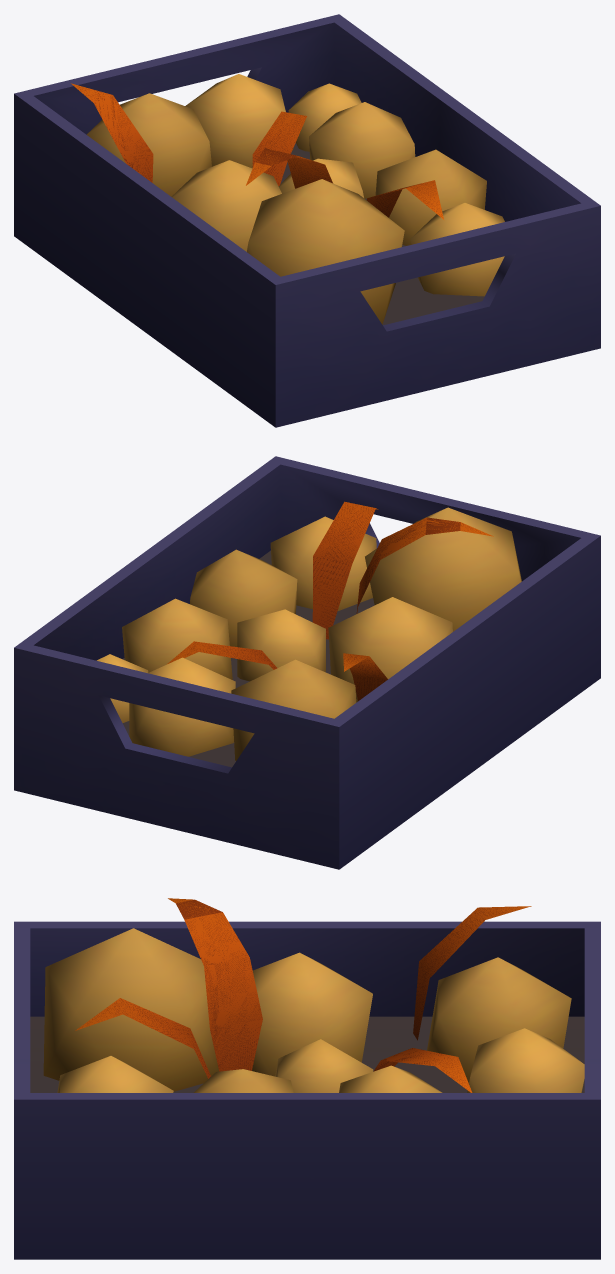
Rendered from TSP_Store_Box_01C.fbx.
3 views of the same model, one above another, from view 1: azimuth 30°, elevation 25°; view 2: azimuth 150°, elevation 25°; view 3: azimuth 270°, elevation 25° (orthographic). The views are drawn at different scales.
Visible parts, largest first — view 1: TSP_Store_Box_01C; view 2: TSP_Store_Box_01C; view 3: TSP_Store_Box_01C.
Boxes of the visible parts, <box> form: TSP_Store_Box_01C: <box>14,14,600,427</box>; TSP_Store_Box_01C: <box>14,456,600,869</box>; TSP_Store_Box_01C: <box>14,898,600,1259</box>.
Bounding box in the file's own units: 0.3127 × 0.1767 × 0.4356.
